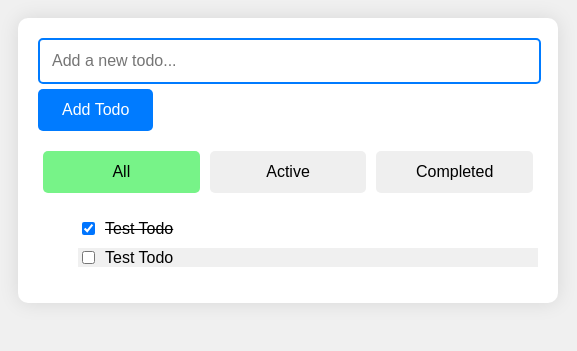
Test: TodoList component › filters todos correctly
The image size is (577, 351).
Type "Test Todo" into the field with placeholder "Add a new todo..." at point(290, 61), box [38,38,541,84]
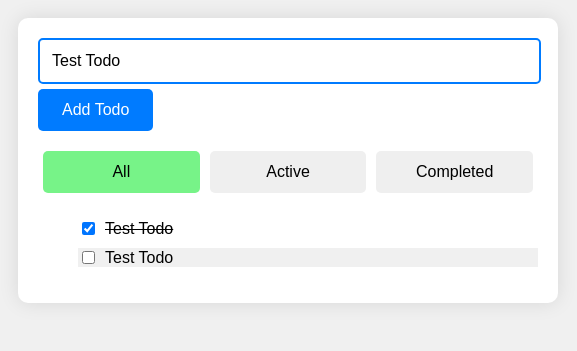
Click the button "Add Todo" at point(96, 110), box [38,89,153,131]
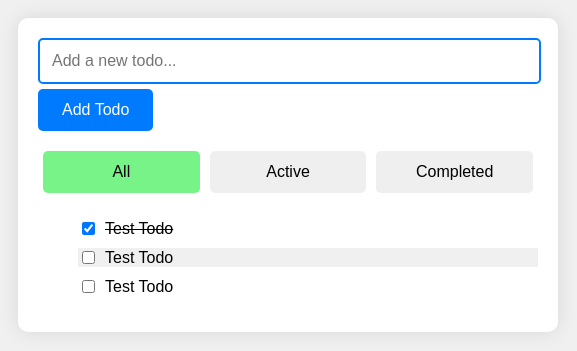
Click the 1st checkbox at point(88, 228), box [82,222,95,235]
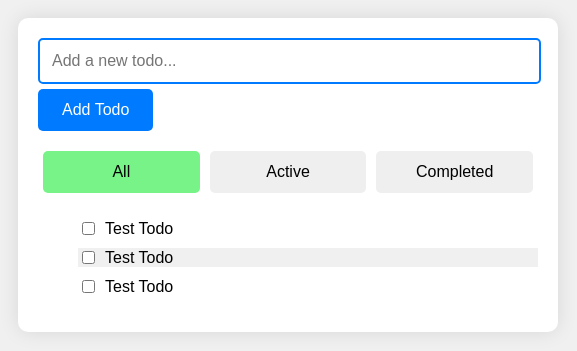
Click the button "Completed" at point(455, 172), box [376,151,533,193]
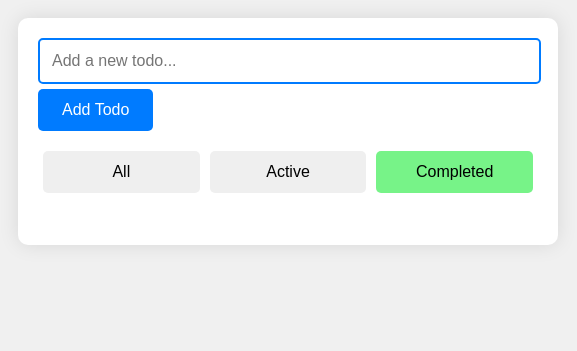
Expected: the text "Test Todo" is not shown
Click the button "Active" at point(288, 172), box [210,151,366,193]
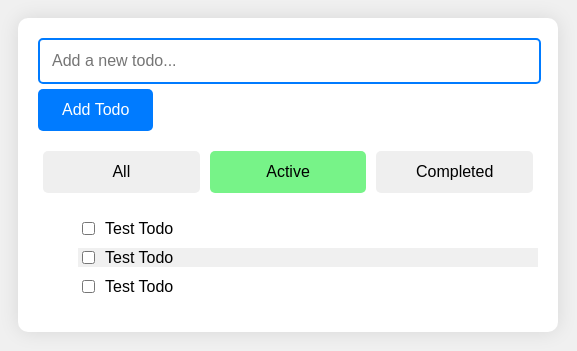
Expected: the text "Test Todo" is shown 3 times, [105,220,173,238]; [105,248,173,266]; [105,278,173,296]
